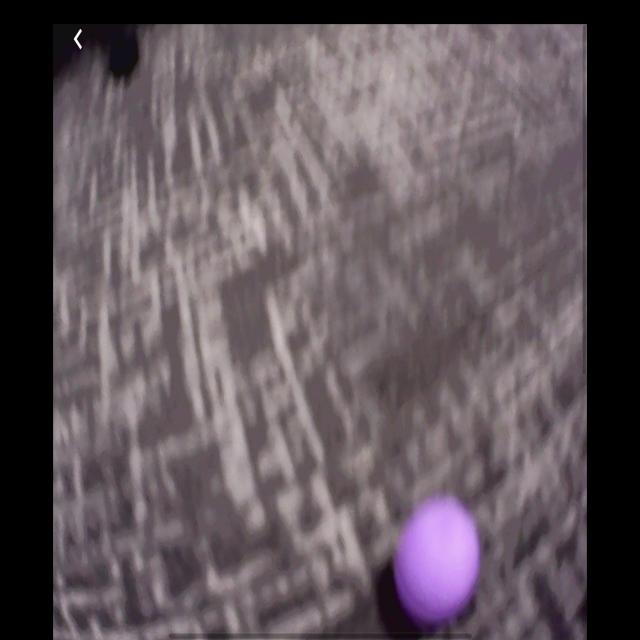ball: (394, 496, 479, 619)
